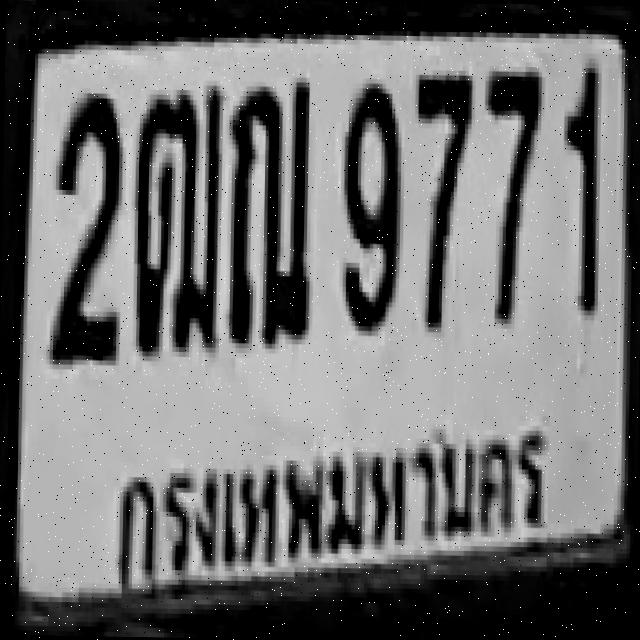1: (559, 65, 600, 312)
2: (47, 90, 121, 363)
27ThorPhuThao: (130, 84, 222, 352)
28NorNen: (225, 76, 313, 344)
7: (411, 70, 472, 328), (481, 66, 538, 324)
9: (336, 78, 401, 331)
Bangkok: (98, 406, 563, 601)
